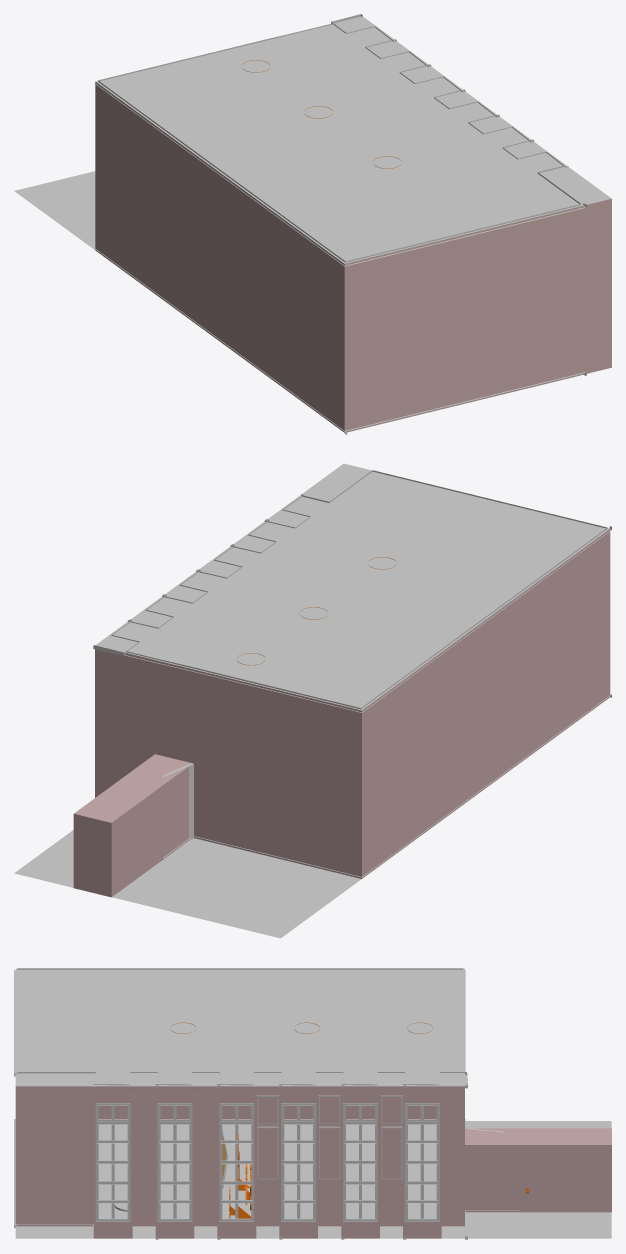
Rendered from Las Meninas.fbx.
3 views of the same model, one above another, from view 1: azimuth 30°, elevation 25°; view 2: azimuth 150°, elevation 25°; view 3: azimuth 270°, elevation 25° (orthographic). The views are drawn at different scales.
Parts seen in each view (by area): view 1: Room, edge, edge.001; view 2: Room, Plane.003, Window_Wall, edge, edge.001; view 3: Room, Window_Wall, Plane.003, Windows, Plane.009, edge, edge.001.
Part boxes in pixels (left/top/right/bottom): Room: left=14, top=16, right=611, bottom=432; edge: left=94, top=23, right=586, bottom=434; edge.001: left=331, top=14, right=568, bottom=167; Room: left=14, top=463, right=610, bottom=938; Plane.003: left=73, top=652, right=361, bottom=897; Window_Wall: left=95, top=645, right=123, bottom=797; edge: left=125, top=470, right=611, bottom=877; edge.001: left=93, top=494, right=310, bottom=655; Room: left=15, top=968, right=611, bottom=1238; Window_Wall: left=93, top=1086, right=464, bottom=1238; Plane.003: left=465, top=1128, right=611, bottom=1212; Windows: left=95, top=1103, right=439, bottom=1221; Plane.009: left=15, top=1086, right=93, bottom=1226; edge: left=14, top=968, right=519, bottom=1235; edge.001: left=93, top=1072, right=467, bottom=1088.
Bounding box in the file's own units: 9.49 × 5.83 × 20.3.
